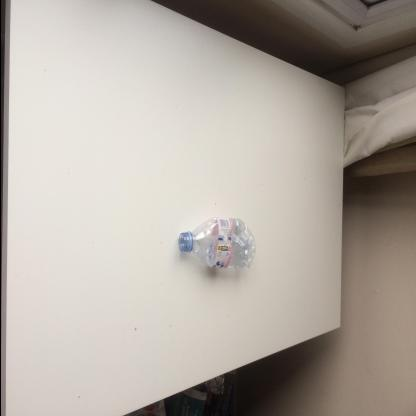plastik: (178, 218, 256, 270)
